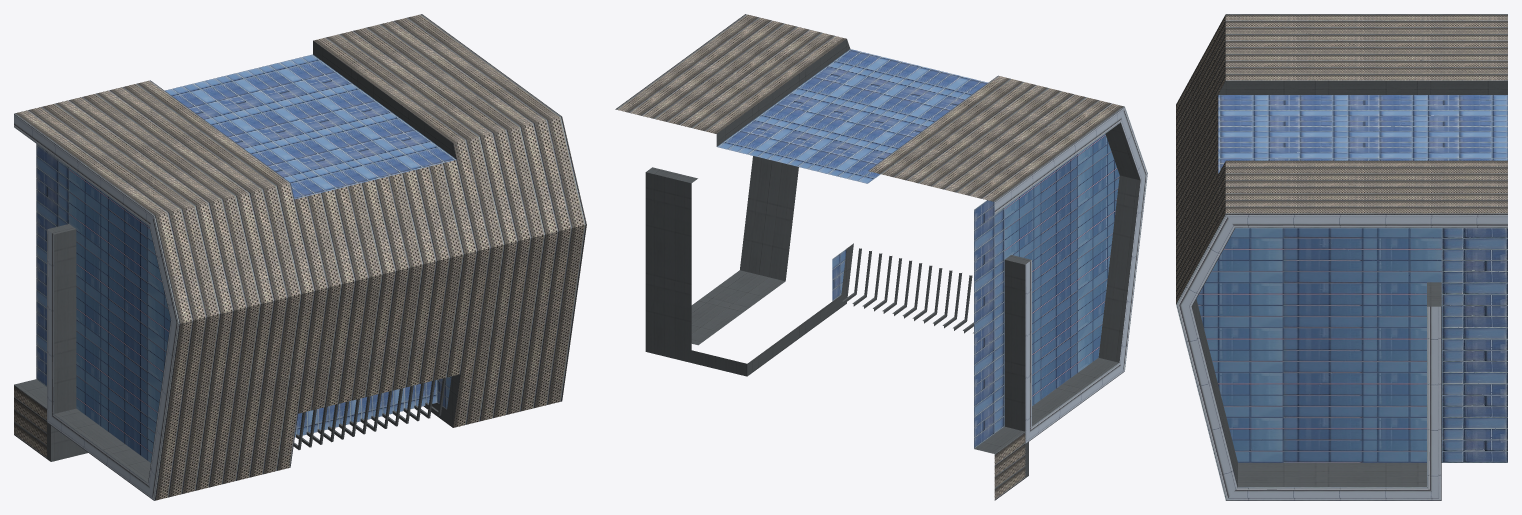
The model's file is sgyh4.gltf.
3 renders of one model, left to right at view 1: azimuth 30°, elevation 25°; view 2: azimuth 150°, elevation 25°; view 3: azimuth 270°, elevation 25°, orthographic. The views are drawn at different scales.
Parts seen in each view (by area): view 1: 对象047; view 2: 对象047; view 3: 对象047.
Boxes of the visible parts, left/top/right/bottom form: 对象047: left=14, top=14, right=586, bottom=500; 对象047: left=615, top=14, right=1147, bottom=500; 对象047: left=1176, top=14, right=1507, bottom=500.
Size of the model in its own units: 46.43 by 34.95 by 32.49.
5 materials, 5 textured.
